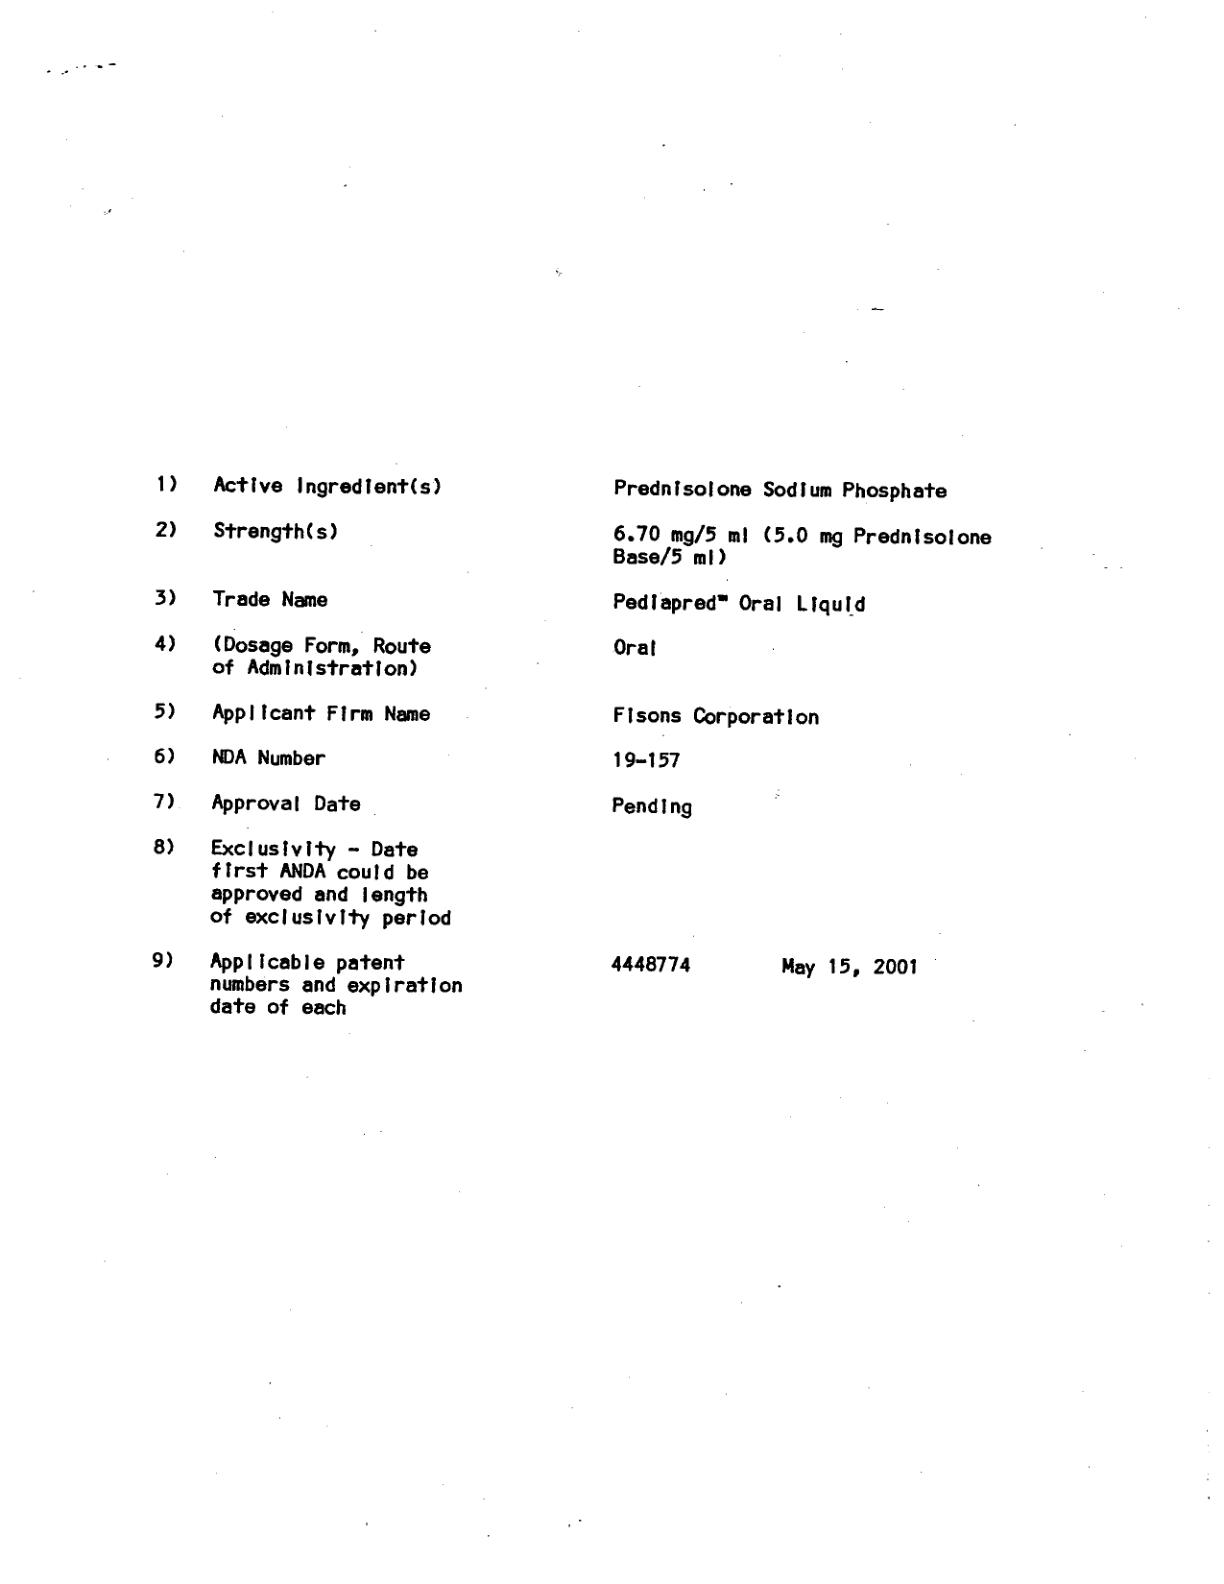nolines: (149, 468, 995, 1018)
